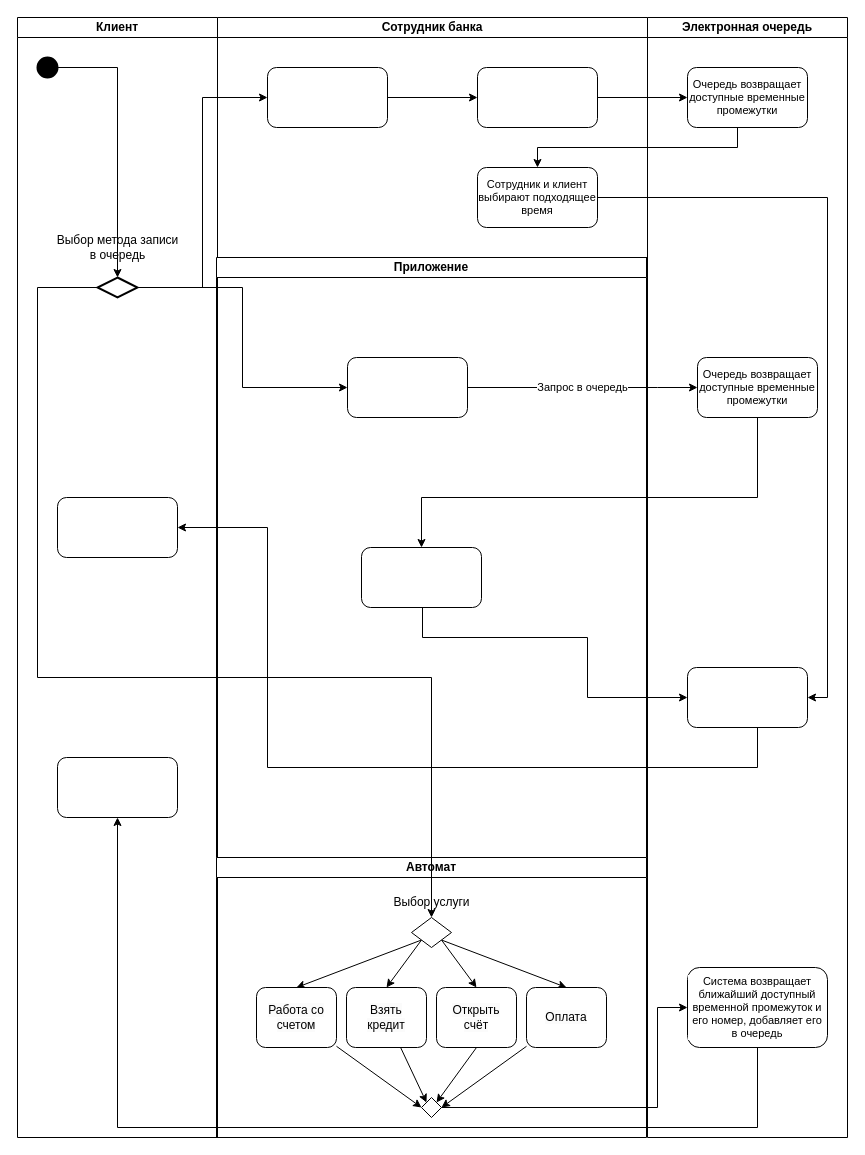
The diagram is 865 pixels wide and 1155 high, and some of its shapes have lost their labels. The centre of each missing label's shape, as x and y in pixels:
"Данные о клиенте добавляются в очередь" belongs at pixel 747 697.
"Клиент вводит, ФИО и телефон или email" belongs at pixel 407 387.
"Клиент выбирает дату и время посещения банка" belongs at pixel 421 577.
"Клиент обращается к сотруднику по телефону" belongs at pixel 327 97.
"Клиент узнаёт своё место в очереди" belongs at pixel 117 787.
"Клиенту на телефон/email присылается подтверждение" belongs at pixel 117 527.
"Сотрудник делает запрос вочередь" belongs at pixel 537 97.
